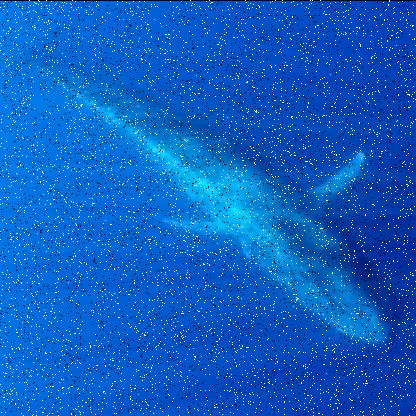blue_whale: (15, 32, 414, 354)
